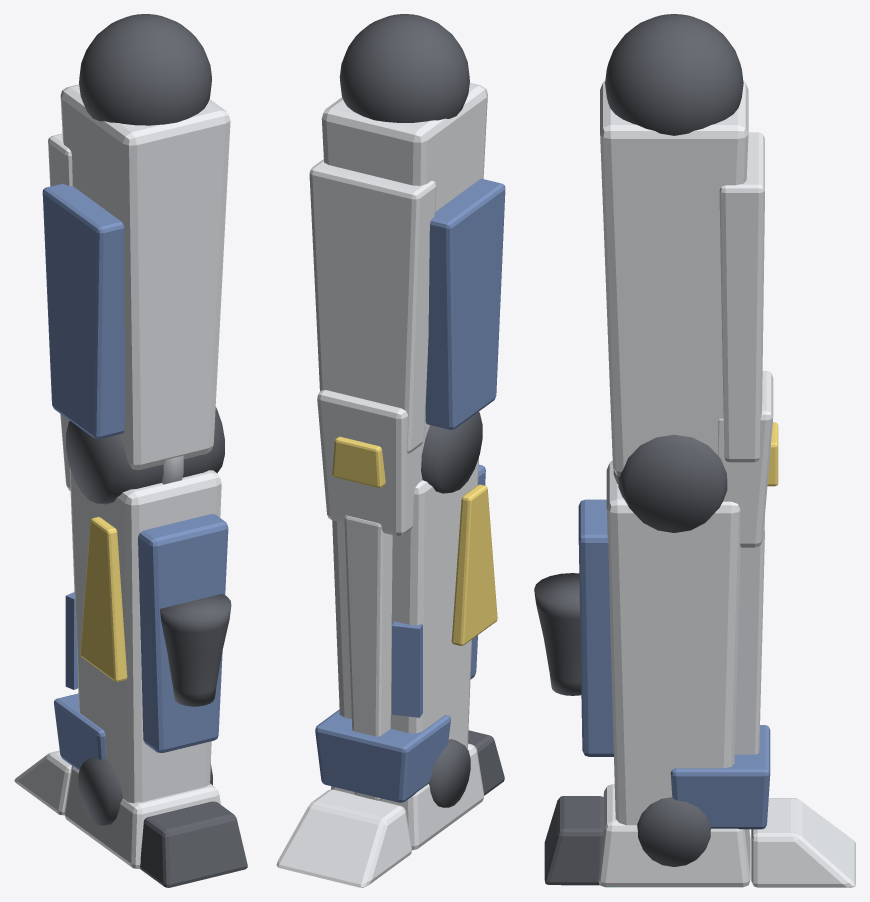
File: leg_fast_l.glb
3 renders of one model, left to right at view 1: azimuth 30°, elevation 25°; view 2: azimuth 150°, elevation 25°; view 3: azimuth 270°, elevation 25°, orthographic. The views are drawn at different scales.
Parts seen in each view (by area): view 1: thigh, shin, thigh_side, calf, hip_joint, heel, calf_thruster, shin_fin, knee, foot, ankle_guard, ankle (+4 smaller); view 2: thigh_front, thigh_side, shin, hip_joint, thigh, knee_cap, shin_ridge, toe, ankle_guard, shin_fin, knee, foot (+4 smaller); view 3: thigh, shin, hip_joint, thigh_front, knee, calf, toe, foot, ankle_guard, shin_ridge, heel, calf_thruster (+2 smaller).
Boxes of the visible parts, x1=… form: thigh: x1=60, y1=84, x2=230, y2=469; shin: x1=69, y1=467, x2=221, y2=803; thigh_side: x1=42, y1=183, x2=124, y2=439; calf: x1=138, y1=514, x2=228, y2=752; hip_joint: x1=79, y1=14, x2=211, y2=125; heel: x1=140, y1=801, x2=247, y2=887; calf_thruster: x1=160, y1=594, x2=231, y2=706; shin_fin: x1=80, y1=517, x2=127, y2=681; knee: x1=66, y1=407, x2=224, y2=504; foot: x1=64, y1=766, x2=220, y2=868; ankle_guard: x1=54, y1=693, x2=105, y2=770; ankle: x1=78, y1=757, x2=212, y2=825; thigh_front: x1=309, y1=159, x2=436, y2=453; thigh_side: x1=425, y1=178, x2=505, y2=429; shin: x1=332, y1=457, x2=478, y2=748; hip_joint: x1=339, y1=14, x2=469, y2=122; thigh: x1=321, y1=83, x2=487, y2=433; knee_cap: x1=317, y1=390, x2=426, y2=535; shin_ridge: x1=344, y1=515, x2=392, y2=800; toe: x1=276, y1=789, x2=411, y2=887; ankle_guard: x1=315, y1=709, x2=450, y2=802; shin_fin: x1=451, y1=484, x2=497, y2=645; knee: x1=421, y1=412, x2=482, y2=493; foot: x1=330, y1=743, x2=484, y2=850; thigh: x1=600, y1=81, x2=748, y2=476; shin: x1=606, y1=461, x2=740, y2=825; hip_joint: x1=605, y1=14, x2=743, y2=135; thigh_front: x1=719, y1=132, x2=764, y2=462; knee: x1=618, y1=434, x2=727, y2=532; calf: x1=578, y1=499, x2=613, y2=756; toe: x1=751, y1=798, x2=855, y2=887; foot: x1=598, y1=784, x2=750, y2=887; ankle_guard: x1=670, y1=725, x2=770, y2=829; shin_ridge: x1=734, y1=517, x2=764, y2=754; heel: x1=544, y1=796, x2=603, y2=885; calf_thruster: x1=534, y1=573, x2=581, y2=695.
Size of the model in its own units: 1.77 by 10.29 by 3.55.
